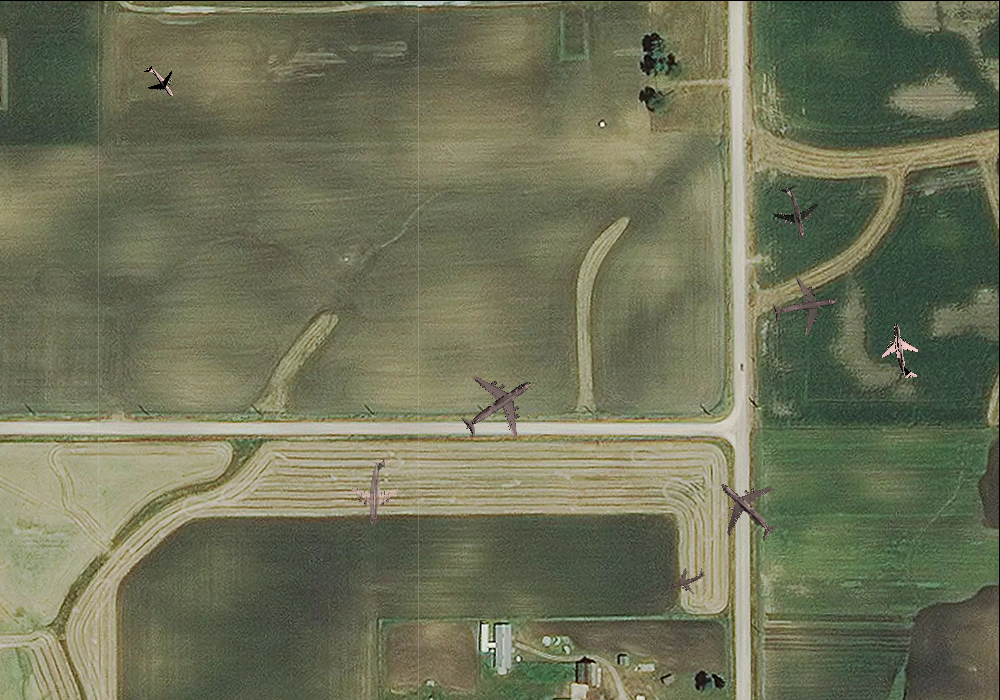plane: (444, 352, 552, 459), (698, 461, 795, 558), (768, 271, 843, 343), (346, 456, 409, 528), (763, 179, 826, 244), (875, 319, 930, 382), (135, 56, 184, 106), (664, 558, 710, 601)
